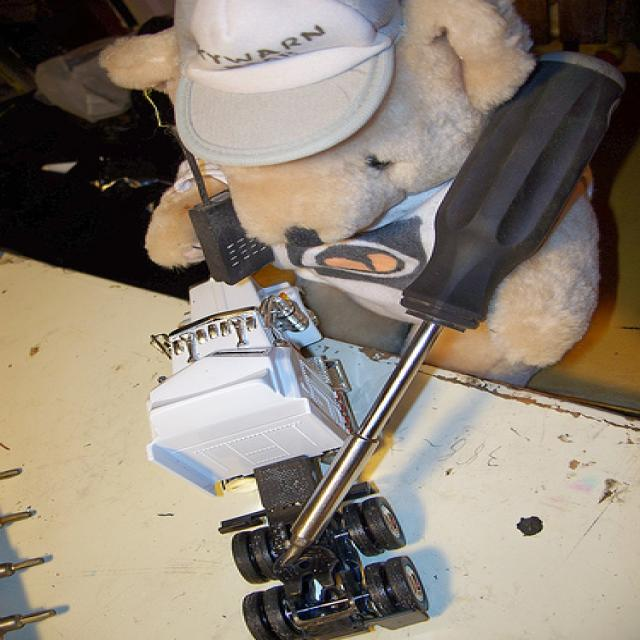screw_driver: (283, 51, 628, 566)
